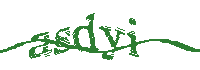a: (26, 28, 54, 59)
d: (74, 11, 98, 54)
i: (126, 17, 140, 58)
s: (54, 26, 72, 56)
y: (99, 24, 124, 62)
